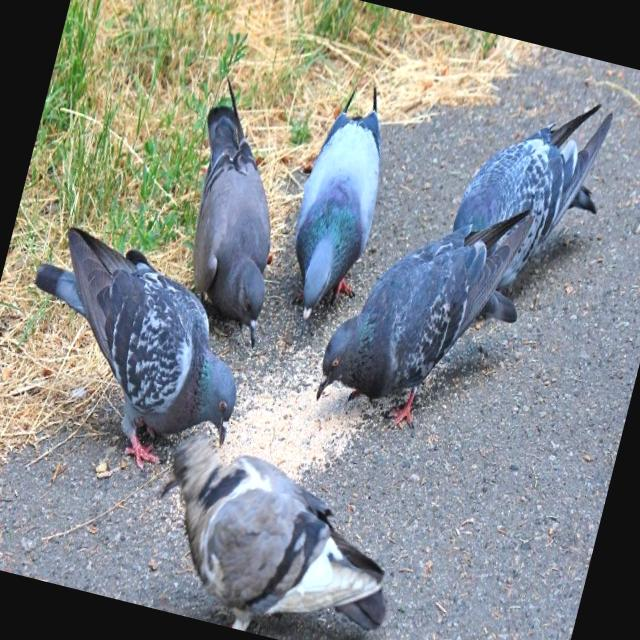bird: (0, 203, 271, 492), (305, 165, 543, 452), (129, 410, 424, 640), (148, 68, 325, 354), (438, 74, 624, 302), (272, 67, 408, 336)
